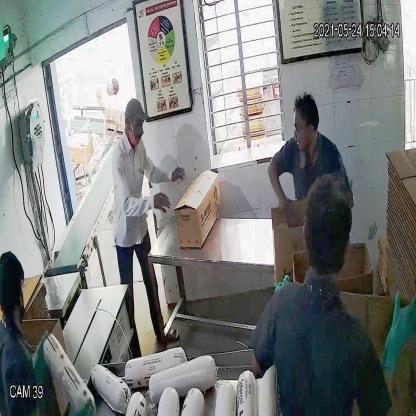goggles: (292, 117, 316, 137)
no_goggles: (121, 115, 147, 134)
